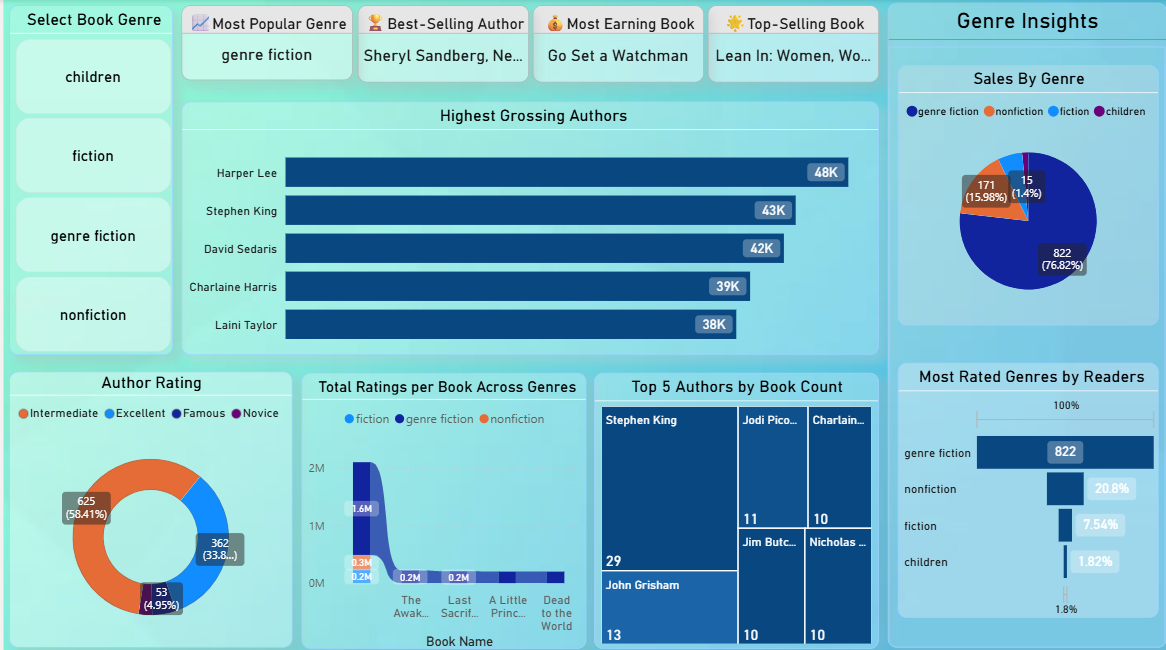

The page's visual inventory and layout, read from the dashboard file:
{"tool":"powerbi","page":{"name":"Book Sales & Ratings Insights Dashboard","canvas":[1280,720],"ordinal":0},"visuals":[{"type":"shape","title":"Genre Insights","box":[970.2,4.1,306,708.1],"z":0},{"type":"advancedSlicerVisual","title":"Select Book Genre","fields":{"Values":["Books_Data_Clean.genre"]},"box":[5.5,6.9,179.8,384.2],"z":1000},{"type":"card","title":"🌟Top-Selling Book","fields":{"Values":["Books_Data_Clean.MostSoldBook"]},"box":[772.6,6.9,188,85.1],"z":3000},{"type":"pieChart","title":"Sales By Genre","fields":{"Y":["Books_Data_Clean.gross sales"],"Category":["Books_Data_Clean.genre"]},"box":[981.1,72.7,286.8,285.4],"z":3500},{"type":"card","title":"💰Most Earning Book","fields":{"Values":["Books_Data_Clean.most_earning_book"]},"box":[580.4,6.9,188,85.1],"z":4000},{"type":"card","title":"🏆Best-Selling Author","fields":{"Values":["Books_Data_Clean.top_author_with_most_sell"]},"box":[388.3,6.9,188,85.1],"z":5000},{"type":"card","title":"📈Most Popular Genre","fields":{"Values":["Books_Data_Clean.most_pop_genre"]},"box":[194.9,6.9,188,82.3],"z":6000},{"type":"clusteredBarChart","title":"Highest Grossing Authors","fields":{"Category":["Books_Data_Clean.Author"],"Y":["Books_Data_Clean.gross sales"]},"box":[194.9,112.5,765.7,278.6],"z":7000},{"type":"funnel","title":"Most Rated Genres by Readers","fields":{"Category":["Books_Data_Clean.genre"],"Y":["Books_Data_Clean.Book_ratings_count"]},"box":[981.1,408.9,286.8,289.5],"z":8000},{"type":"donutChart","title":"Author Rating","fields":{"Category":["Books_Data_Clean.Author_Rating"],"Y":["Books_Data_Clean.Author"]},"box":[5.5,408.9,311.5,303.3],"z":9000},{"type":"ribbonChart","title":"Total Ratings per Book Across Genres","fields":{"Category":["Books_Data_Clean.Book Name"],"Series":["Books_Data_Clean.genre"],"Y":["Books_Data_Clean.Book_ratings_count"]},"box":[326.6,410.3,312.9,303.3],"z":10000},{"type":"treemap","title":"Top 5 Authors by Book Count","fields":{"Group":["Books_Data_Clean.Author"],"Values":["Books_Data_Clean.Book Name"]},"box":[647.7,410.3,312.9,303.3],"z":11000}]}

Visuals, with their boxes in screenshot pixels (x1, y1, x2, y2), scaled from the page's 1280x720 canvas onto the 1166x650 screenshot:
"Genre Insights" shape: <box>884,4,1163,643</box>
"Select Book Genre" advancedSlicerVisual: <box>5,6,169,353</box>
"🌟Top-Selling Book" card: <box>704,6,875,83</box>
"Sales By Genre" pieChart: <box>894,66,1155,323</box>
"💰Most Earning Book" card: <box>529,6,700,83</box>
"🏆Best-Selling Author" card: <box>354,6,525,83</box>
"📈Most Popular Genre" card: <box>178,6,349,81</box>
"Highest Grossing Authors" clusteredBarChart: <box>178,102,875,353</box>
"Most Rated Genres by Readers" funnel: <box>894,369,1155,630</box>
"Author Rating" donutChart: <box>5,369,289,643</box>
"Total Ratings per Book Across Genres" ribbonChart: <box>298,370,583,644</box>
"Top 5 Authors by Book Count" treemap: <box>590,370,875,644</box>
